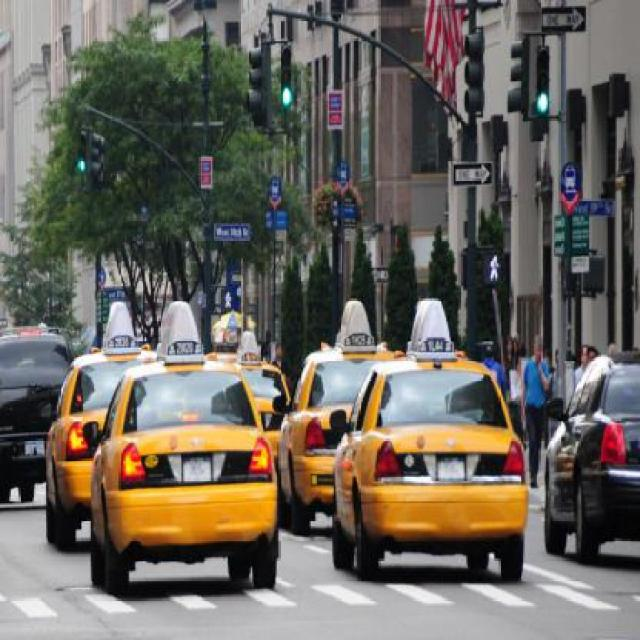License-Plates: (183, 457, 211, 482)
